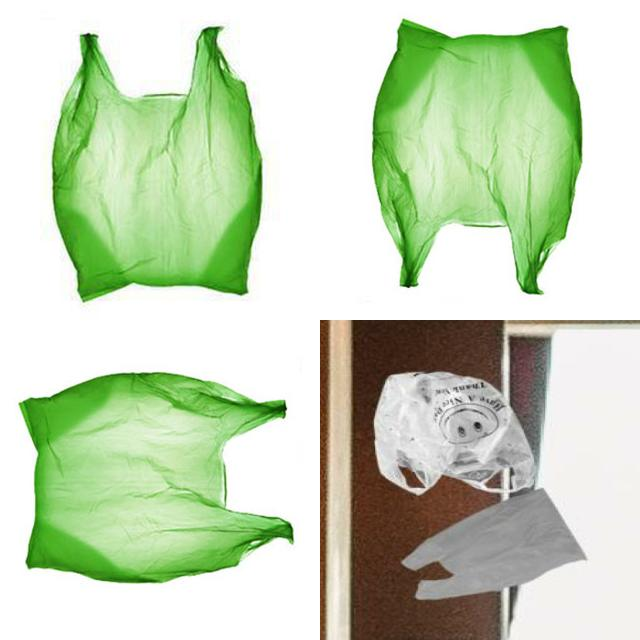Single-layer Plastic: (20, 372, 292, 582), (372, 20, 581, 293), (52, 28, 261, 300), (402, 489, 586, 599), (374, 371, 535, 495)
